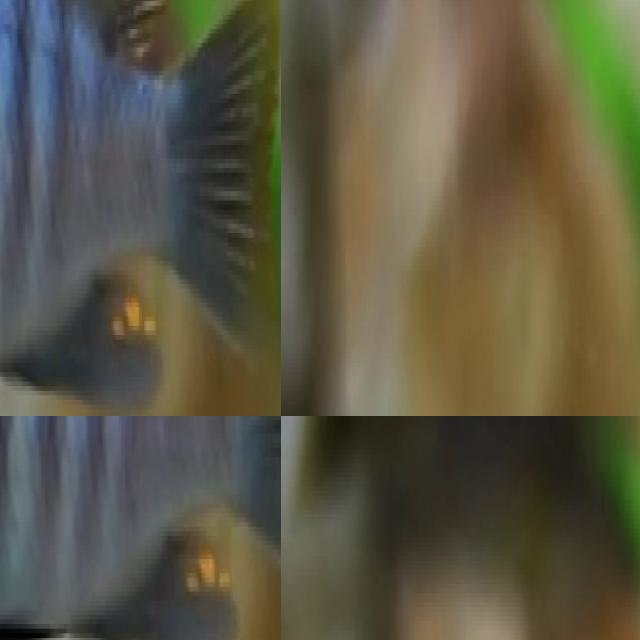fish: (0, 0, 281, 416), (0, 416, 281, 640), (449, 416, 640, 551)
